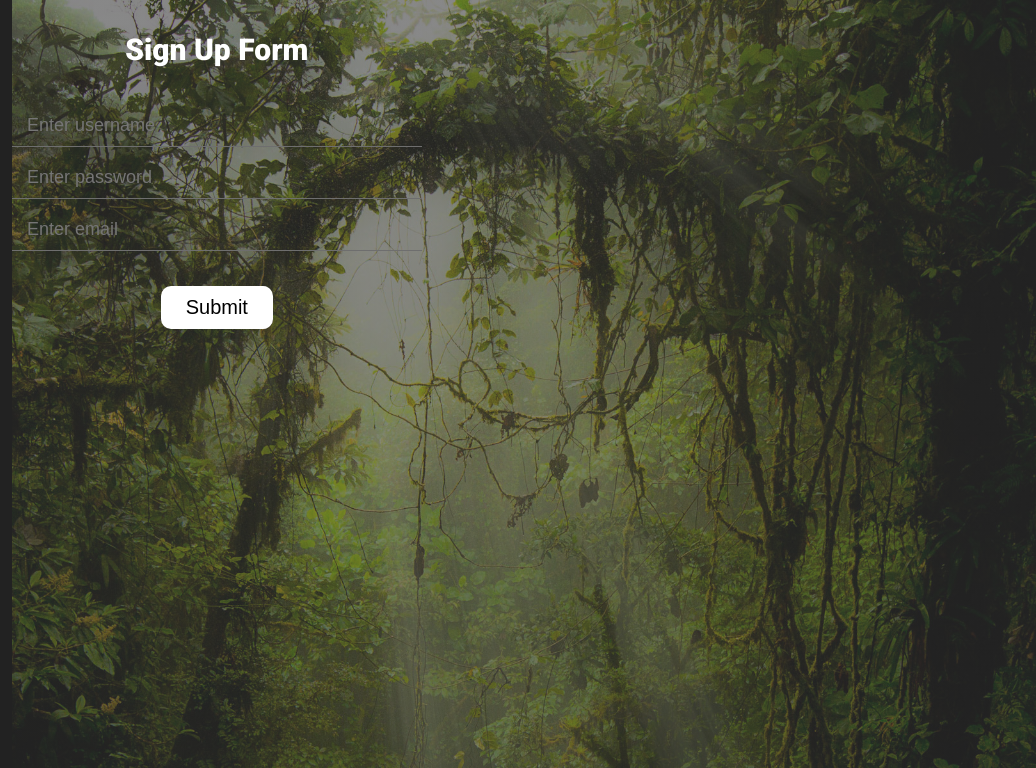
Scenario: render HelloForm with api › test registration (success)
Type "testname1" into the field with placeholder "Enter username". click: coordinates (217, 126)
box: [12,105,422,147]
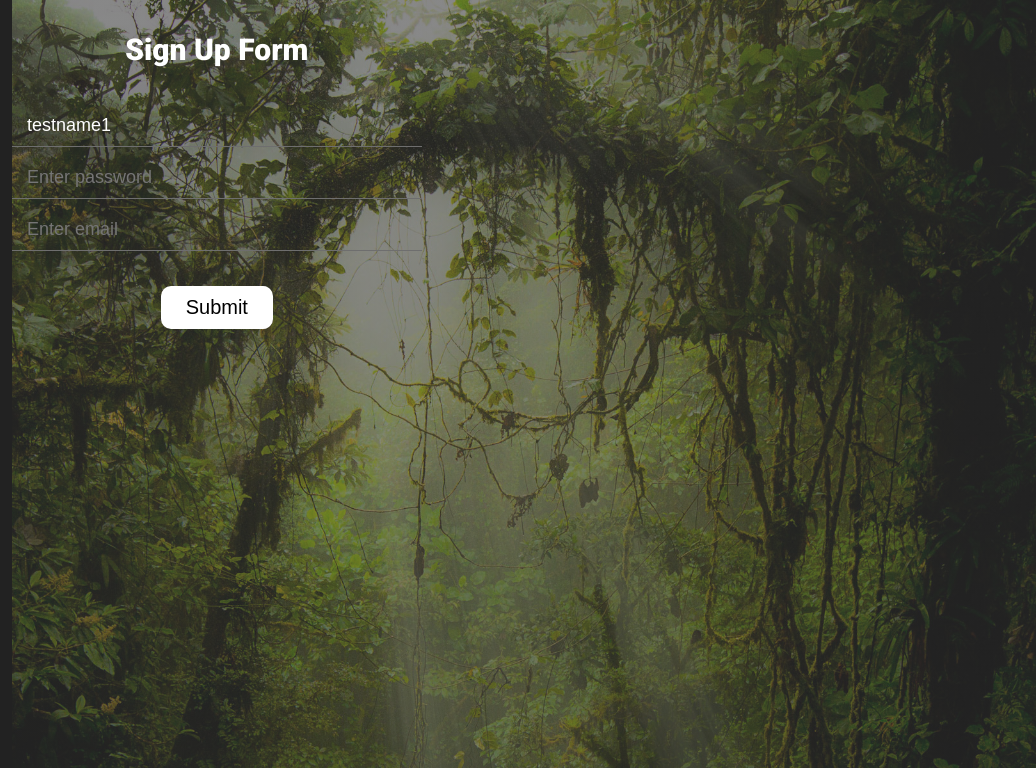
Type "4815162342y" into the password field with placeholder "Enter password". click: coordinates (217, 178)
box: [12,157,422,199]
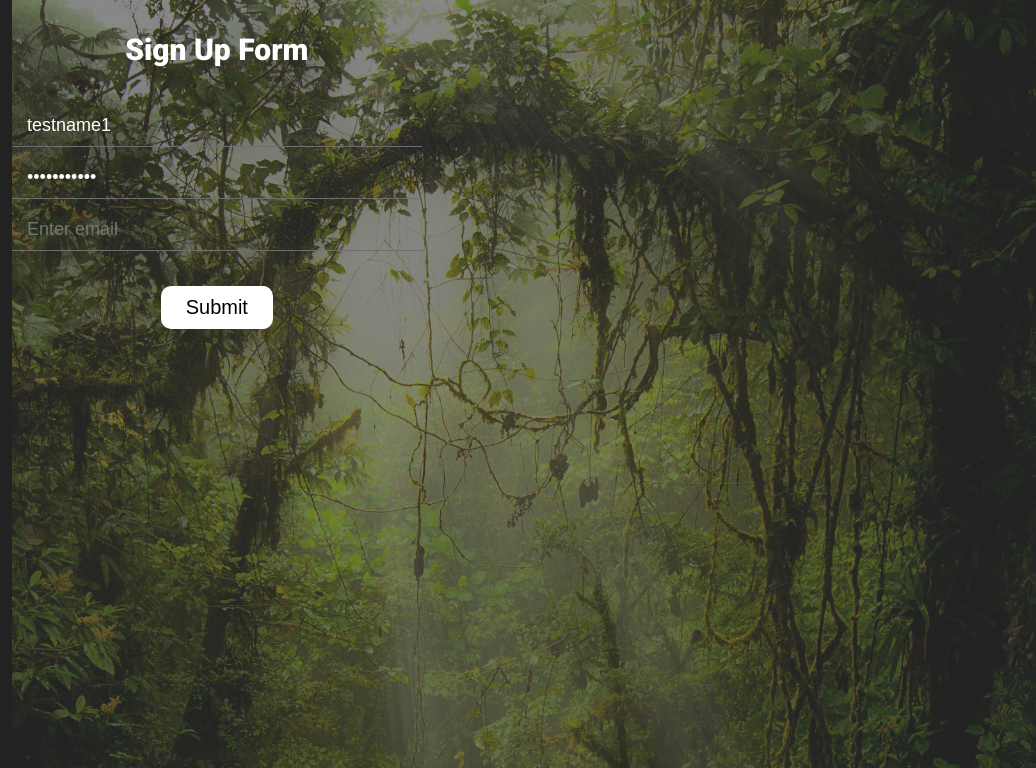
Type "test1@email.com" into the field with placeholder "Enter email". click: coordinates (217, 230)
box: [12,209,422,251]
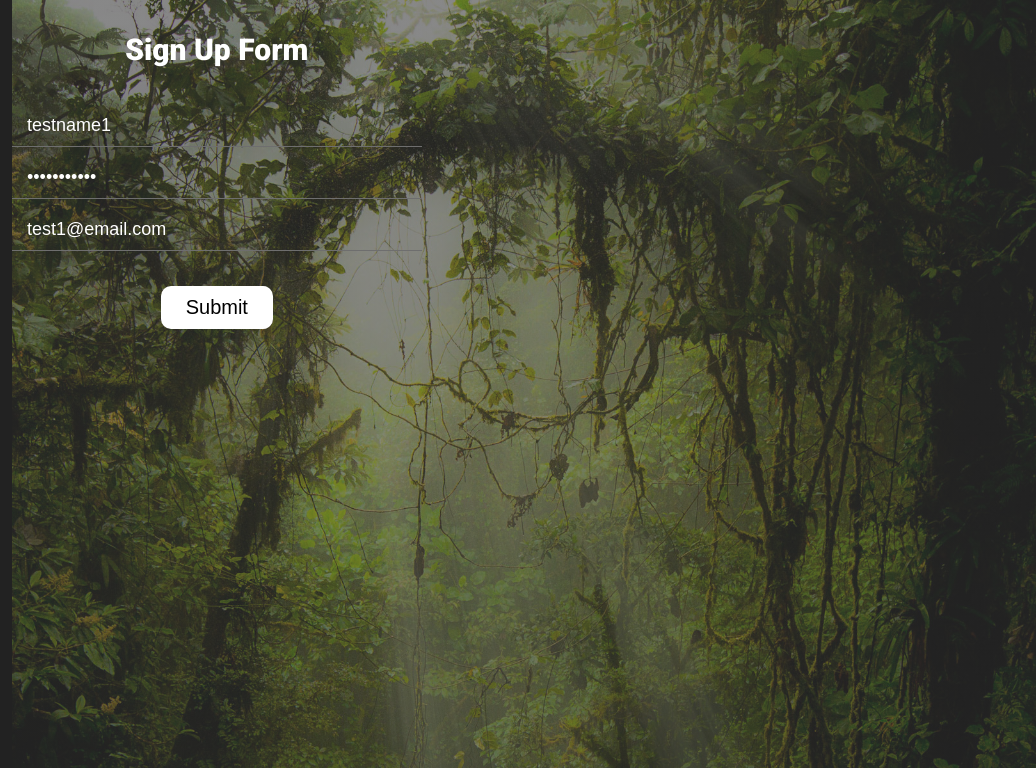
Click the button "Submit". click: coordinates (217, 308)
box: [161,286,273,329]
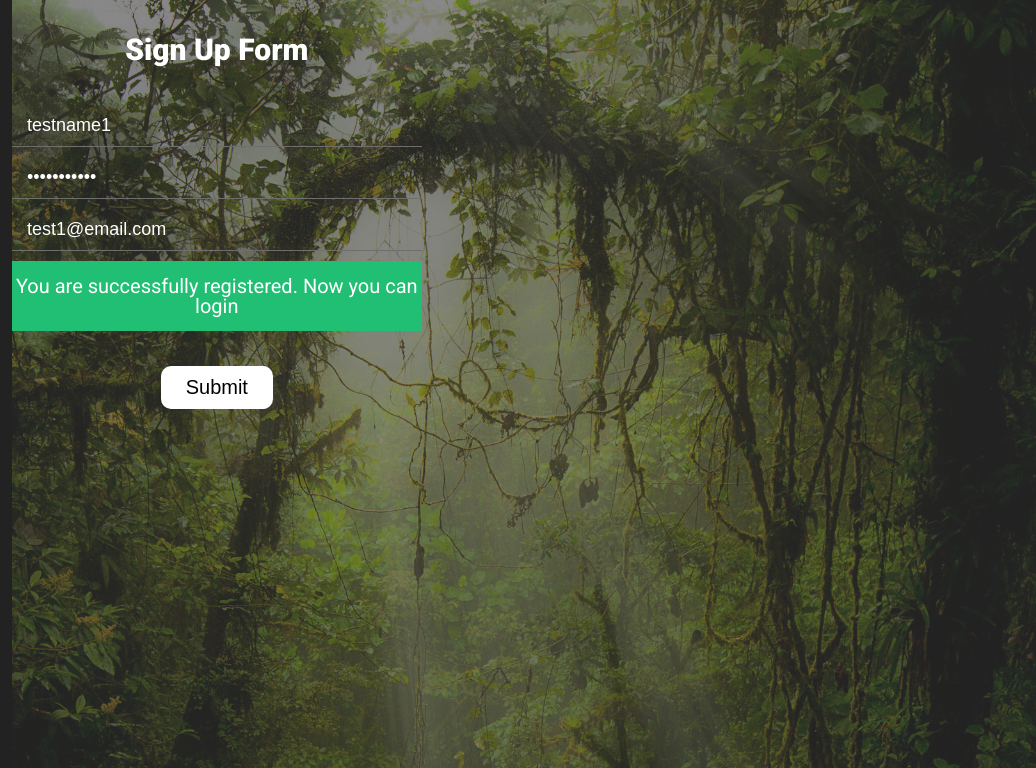
Expected: the text "You are successfully registered. Now you can login" is shown, [12,261,422,331]
